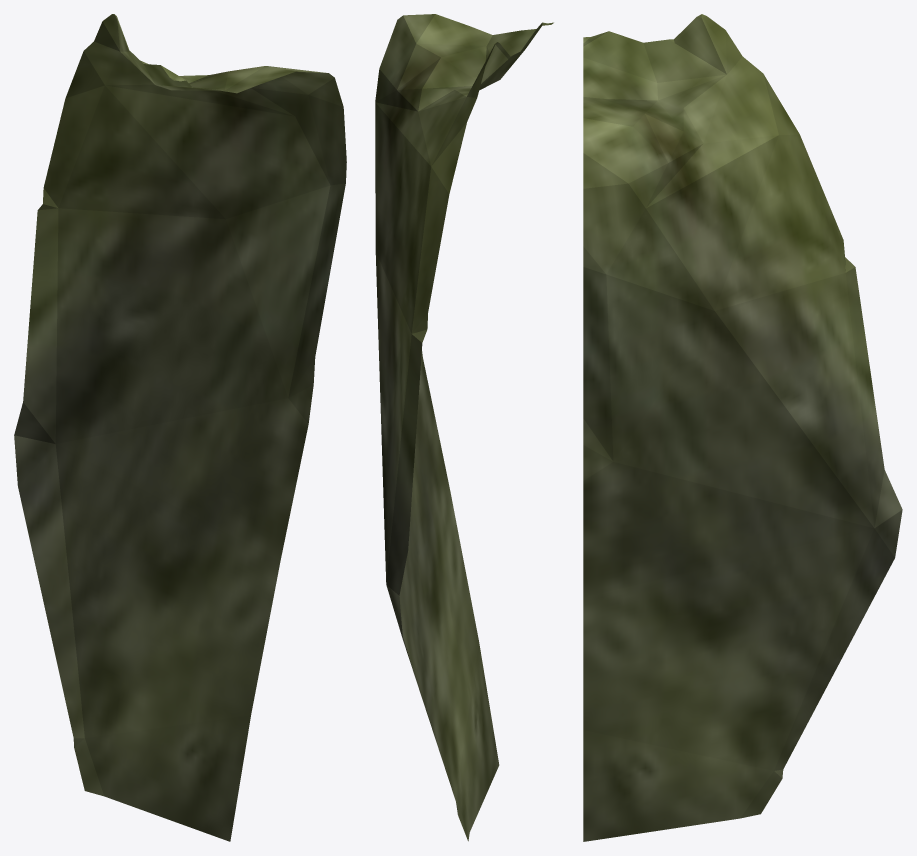
3 views of the same model, side by side, from view 1: azimuth 30°, elevation 25°; view 2: azimuth 150°, elevation 25°; view 3: azimuth 270°, elevation 25° (orthographic). The views are drawn at different scales.
Size of the model in its own units: 0.4003 by 1.76 by 0.6371.
1 material, 1 textured.
